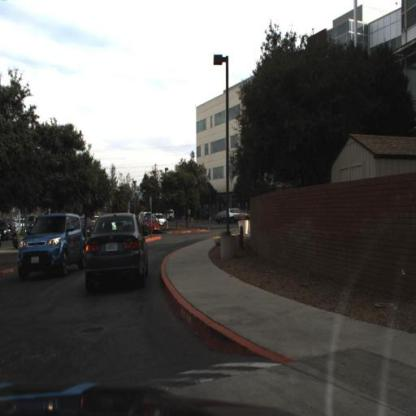car: (82, 206, 150, 295), (15, 207, 85, 283), (135, 212, 162, 238), (224, 205, 250, 226), (223, 207, 252, 225), (141, 213, 161, 238), (163, 205, 175, 221)
